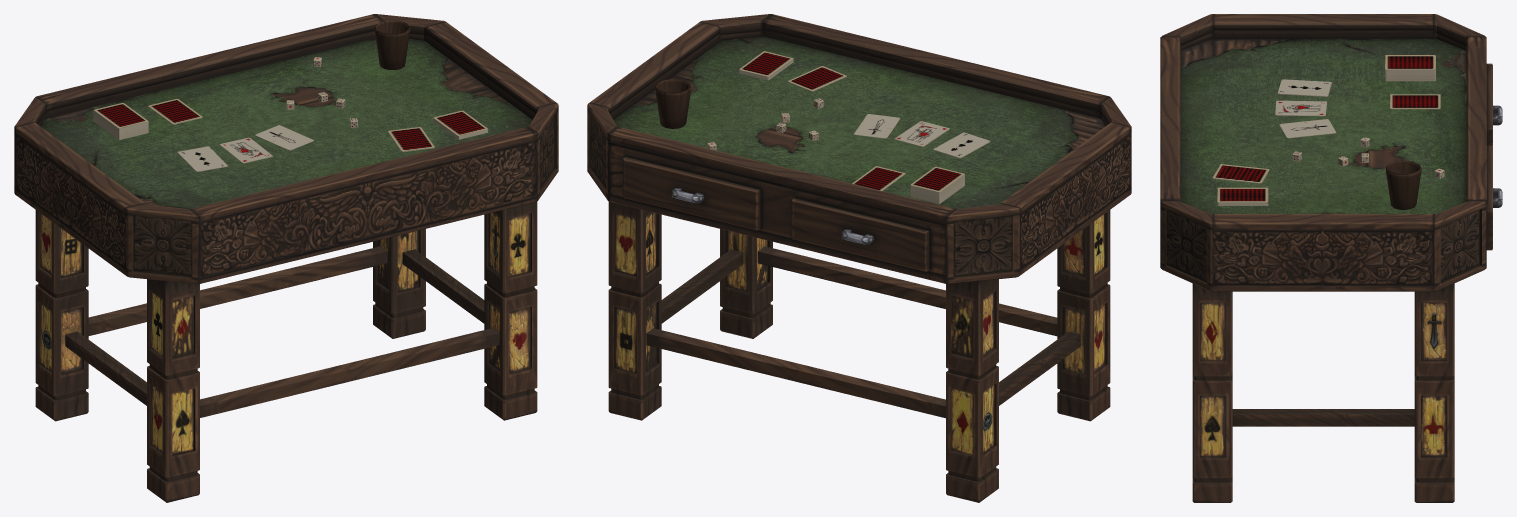
The model's file is gambling_table.glb.
The picture shows the model from 3 angles, left to right: view 1: azimuth 30°, elevation 25°; view 2: azimuth 150°, elevation 25°; view 3: azimuth 270°, elevation 25°; orthographic projection.
Visible parts, largest first — view 1: Cube, Cube.013_0 (×3), Cylinder, Cube.013, Cube.010, Cube.011, Cube.012; view 2: Cube, Cube.013_0 (×3), Cylinder, Cube.013, Cube.012, Cube.011, Cube.010; view 3: Cube, Cube.013_0 (×3), Cylinder, Cube.013, Cube.012, Cube.010, Cube.011.
Boxes of the visible parts, <box> form: Cube: <box>14,14,558,502</box>; Cube.013_0 (×3): <box>93,98,434,151</box>; Cylinder: <box>374,20,410,69</box>; Cube.013: <box>433,110,487,139</box>; Cube.010: <box>255,125,314,150</box>; Cube.011: <box>219,137,272,163</box>; Cube.012: <box>177,146,228,171</box>; Cube: <box>587,14,1131,502</box>; Cube.013_0 (×3): <box>787,66,964,203</box>; Cylinder: <box>655,79,690,128</box>; Cube.013: <box>739,51,793,80</box>; Cube.012: <box>933,132,990,158</box>; Cube.011: <box>894,121,949,146</box>; Cube.010: <box>853,114,900,138</box>; Cube: <box>1160,14,1502,502</box>; Cube.013_0 (×3): <box>1212,55,1440,183</box>; Cylinder: <box>1386,160,1421,209</box>; Cube.013: <box>1217,187,1268,205</box>; Cube.012: <box>1277,79,1332,96</box>; Cube.010: <box>1279,119,1336,138</box>; Cube.011: <box>1275,100,1326,116</box>.
Bounding box in the file's own units: 3.63 × 2.55 × 2.5.
7 materials, 7 textured.
